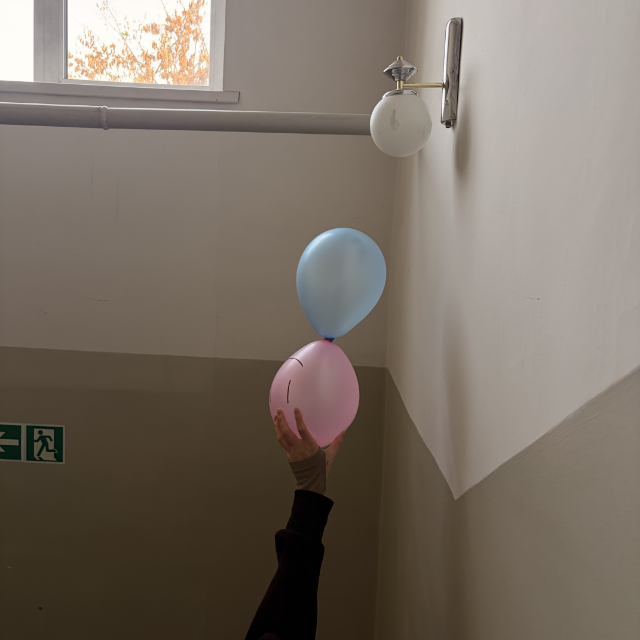balloon: (295, 227, 387, 343), (268, 338, 360, 450)
